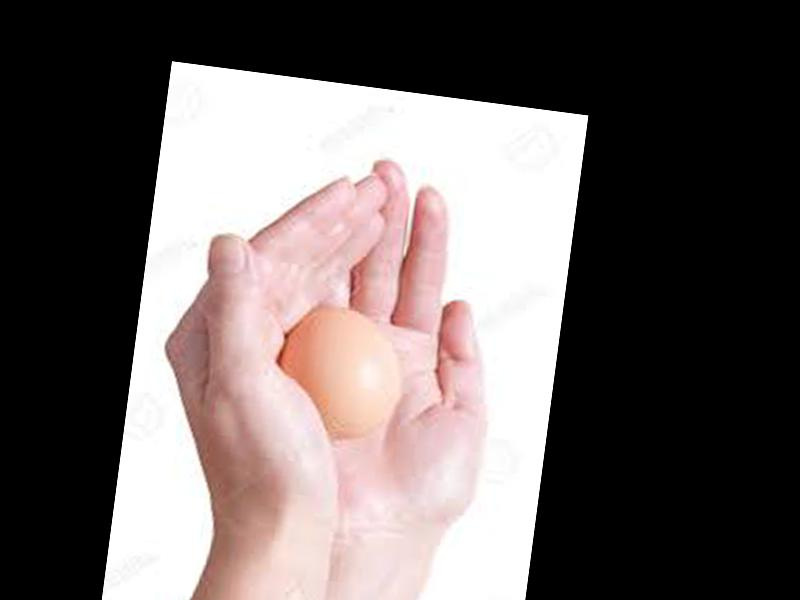Eggs: (274, 302, 404, 438)
